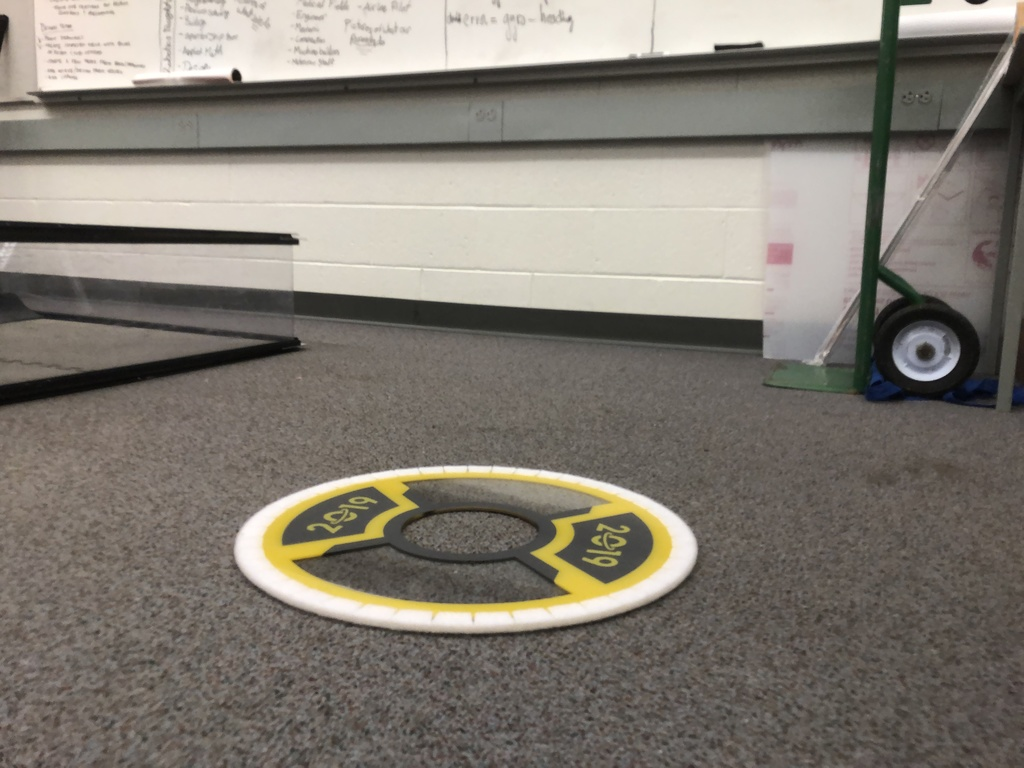hatch_panel: (226, 456, 715, 642)
